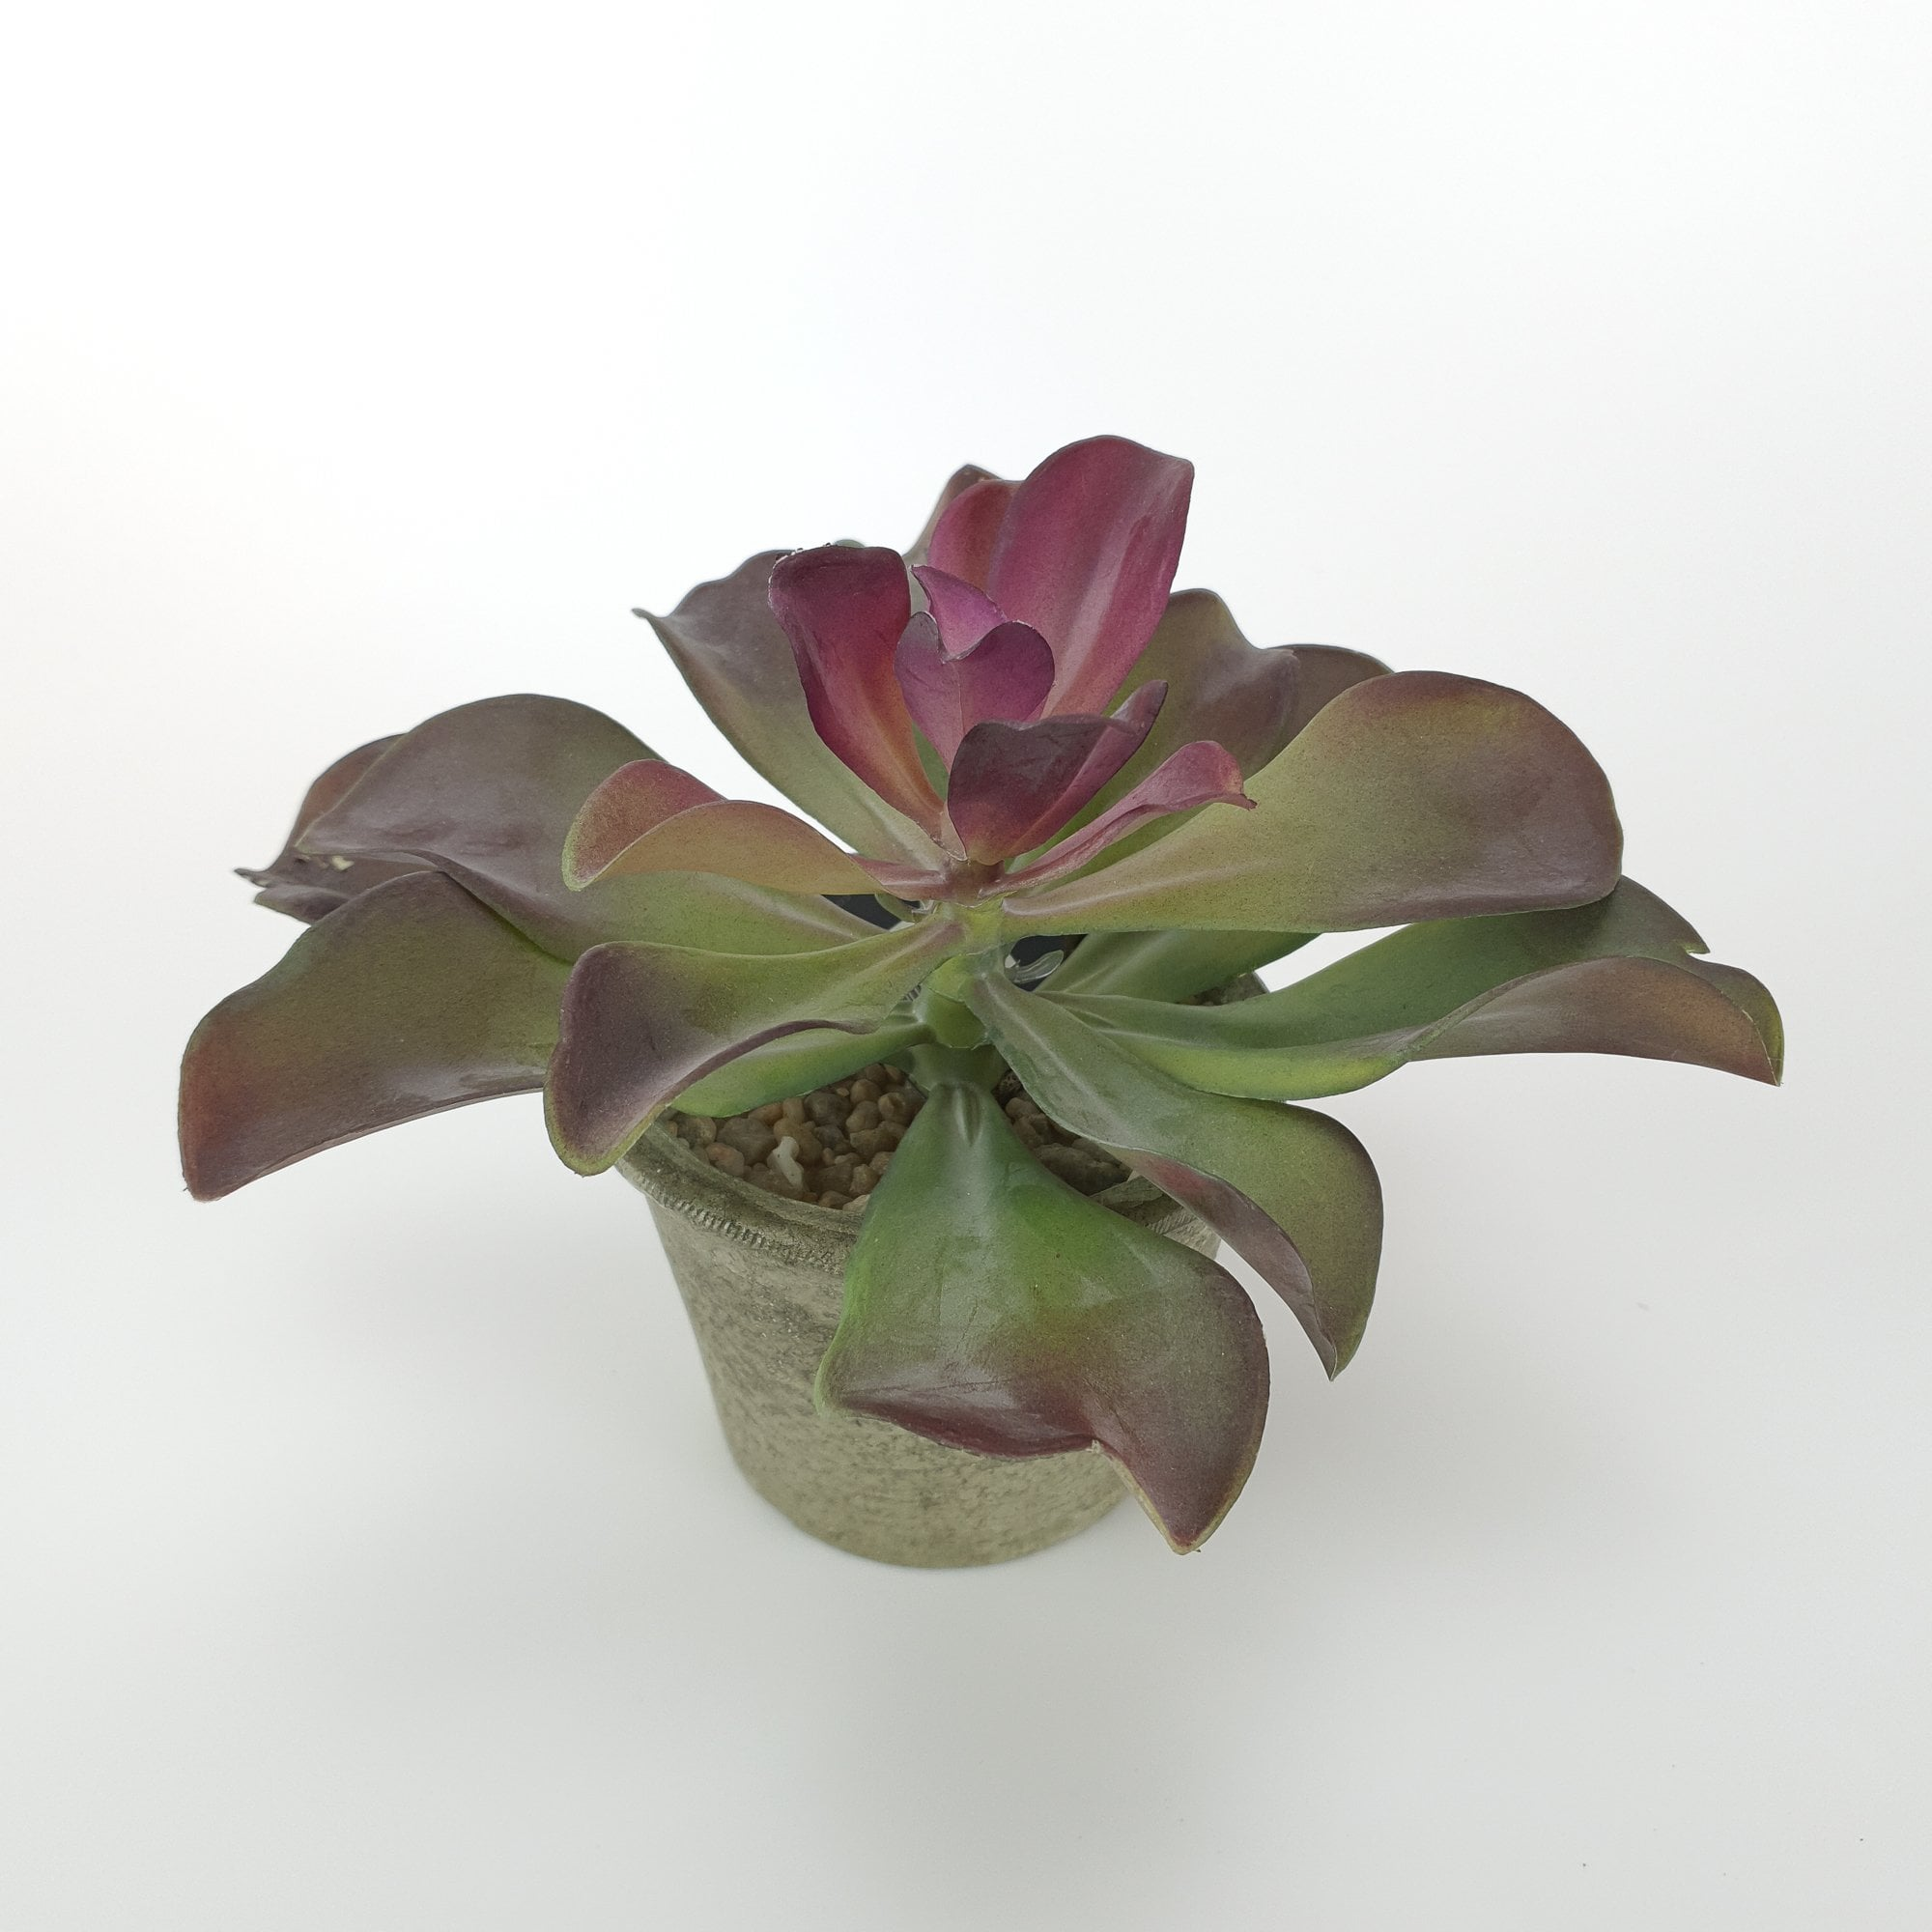tanaman: (249, 485, 1798, 1658)
